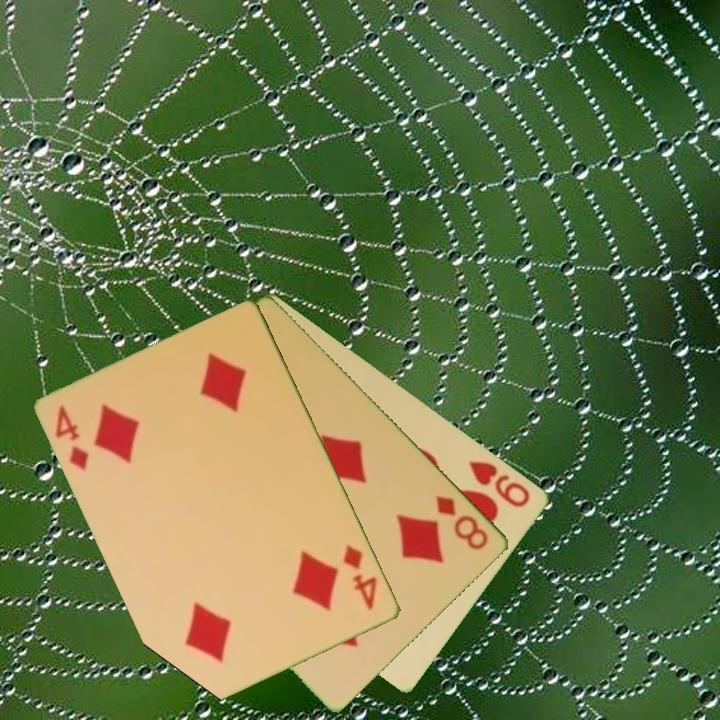4d: (340, 541, 381, 614), (52, 401, 93, 474)
8d: (433, 492, 492, 553)
9h: (465, 457, 534, 511)
